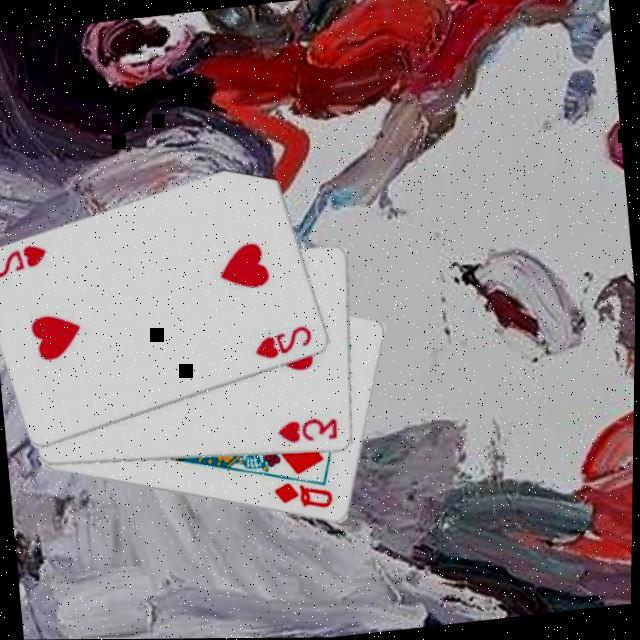2H: (251, 320, 318, 362), (0, 237, 53, 278)
3H: (276, 412, 344, 446)
QD: (272, 473, 339, 515)
